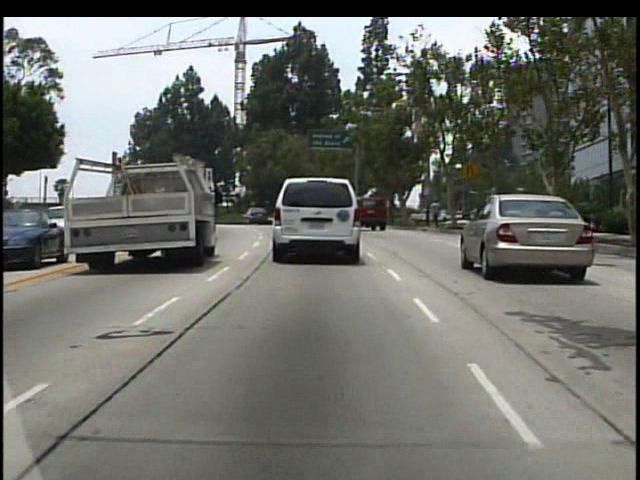person: (430, 196, 444, 230)
